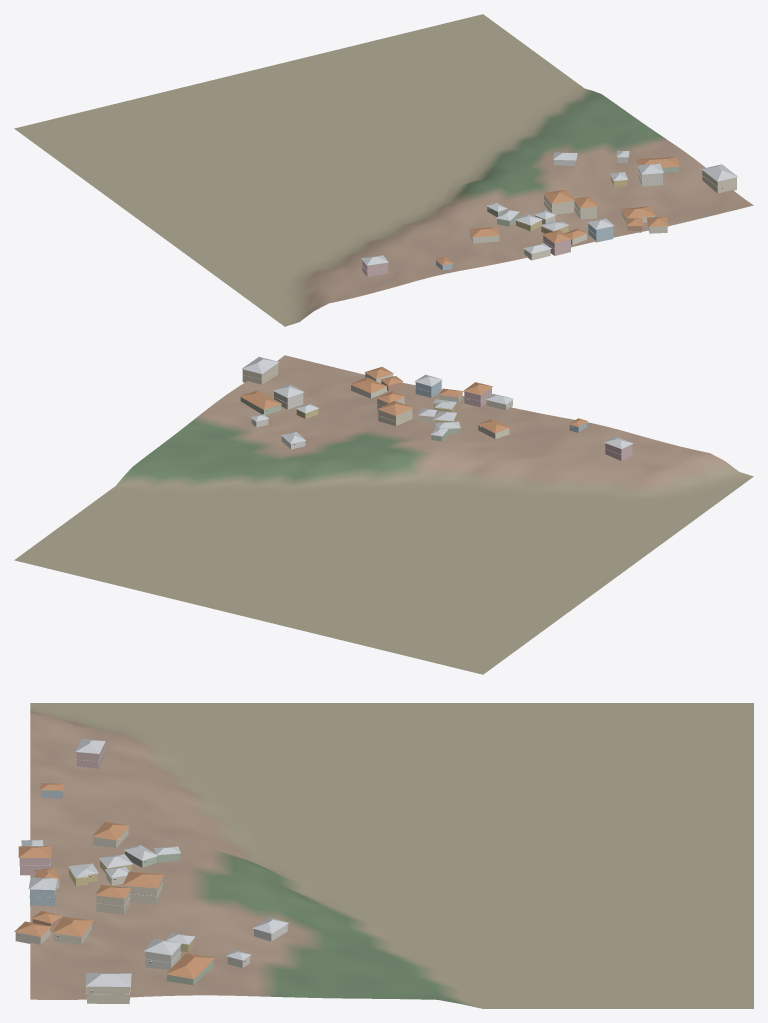
3 views of the same model, one above another, from view 1: azimuth 30°, elevation 25°; view 2: azimuth 150°, elevation 25°; view 3: azimuth 270°, elevation 25° (orthographic). The views are drawn at different scales.
Visible parts, largest first — view 1: Terrain-col, Buildings-col; view 2: Terrain-col, Buildings-col; view 3: Terrain-col, Buildings-col.
Boxes of the visible parts, x1=… form: Terrain-col: x1=14, y1=14, x2=753, y2=326; Buildings-col: x1=361, y1=150, x2=737, y2=276; Terrain-col: x1=14, y1=355, x2=753, y2=674; Buildings-col: x1=239, y1=356, x2=633, y2=460; Terrain-col: x1=30, y1=703, x2=753, y2=1008; Buildings-col: x1=14, y1=739, x2=288, y2=1004.
Bounding box in the file's own units: 259 × 13.63 × 262.
